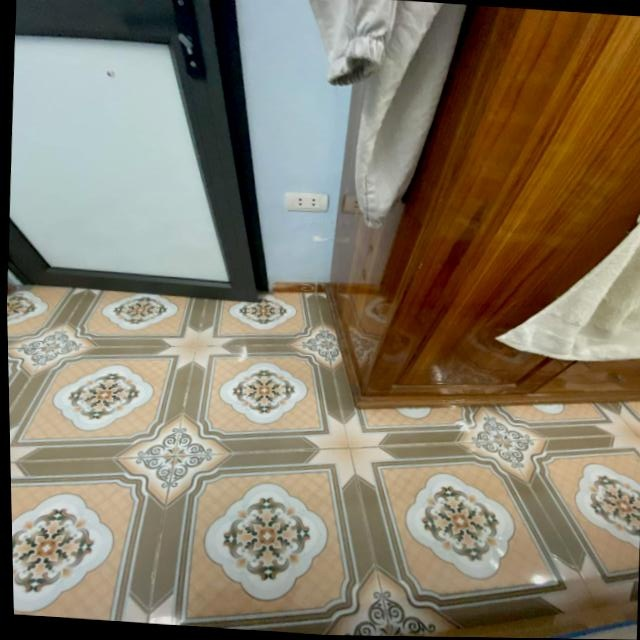outlet: (285, 191, 330, 213)
